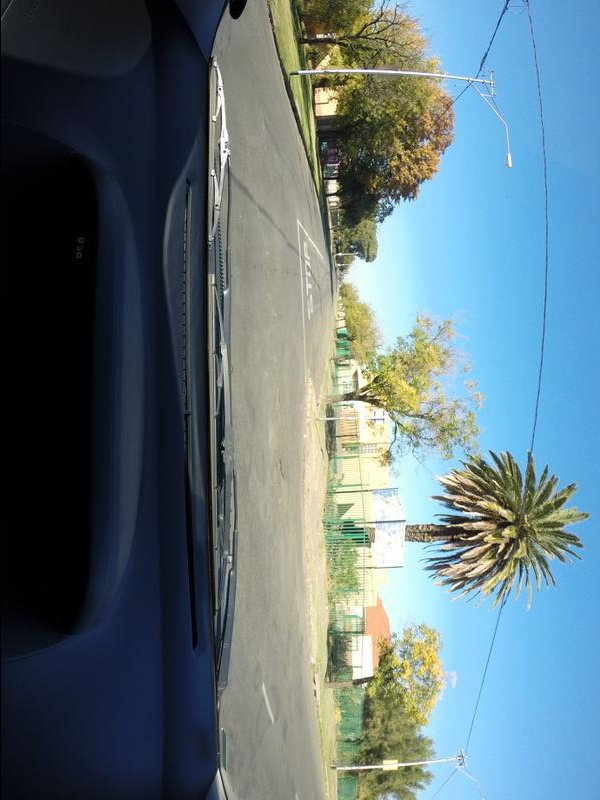pothole: (270, 461, 290, 494)
